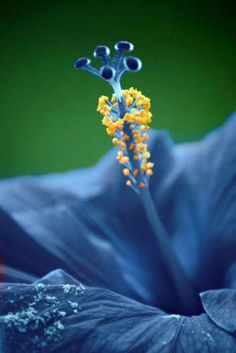Hibiscus: (3, 4, 236, 353)
